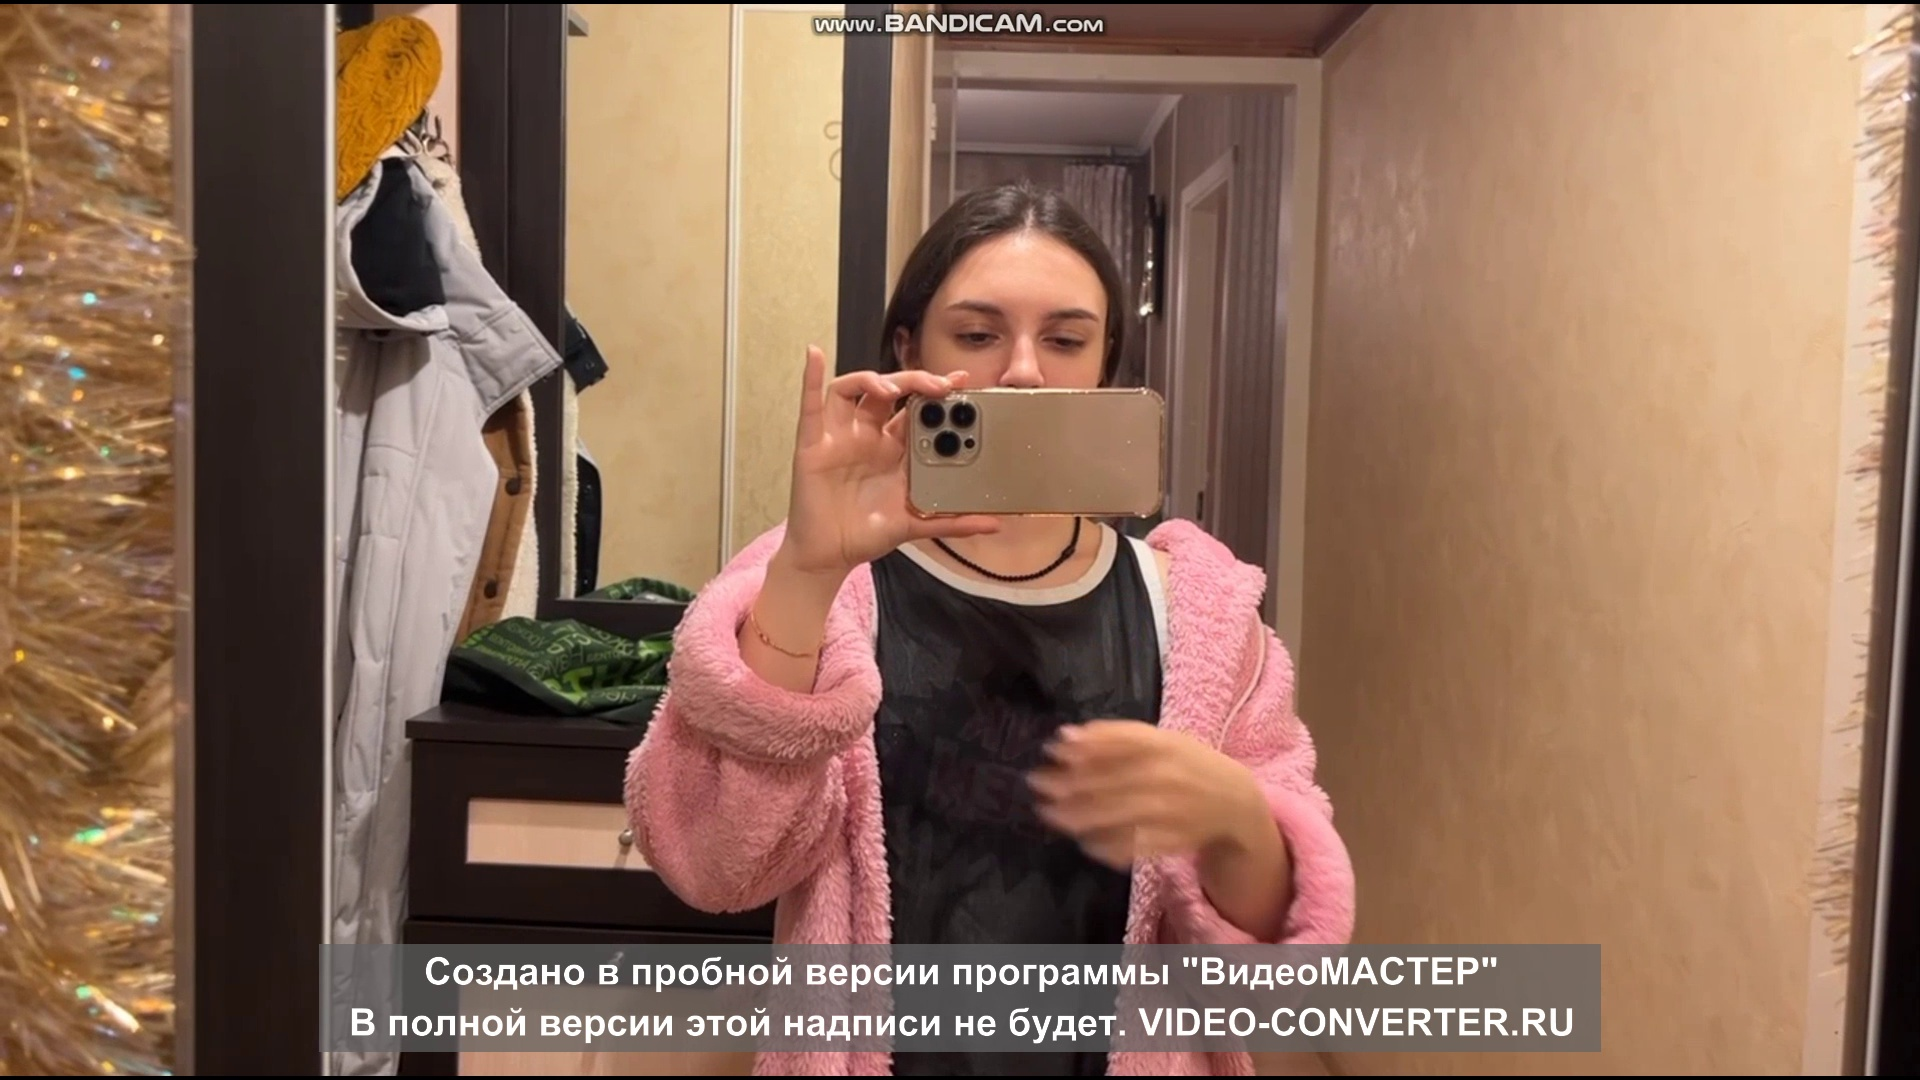Кисть: (1023, 715, 1246, 866)
